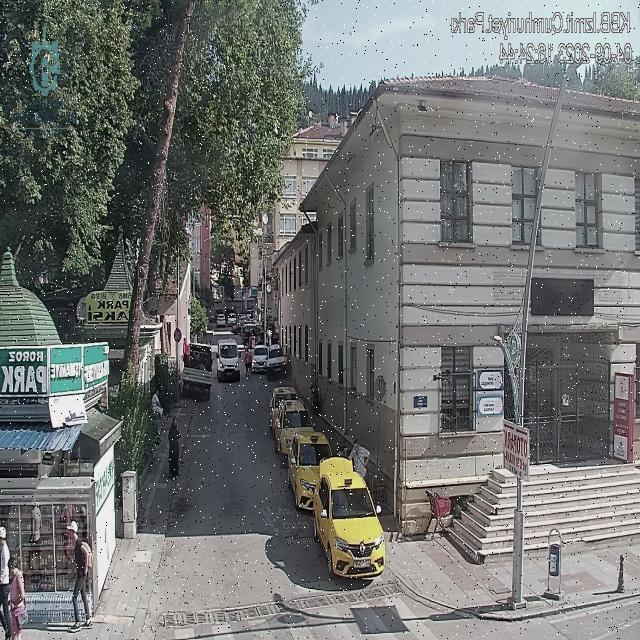Car: (317, 457, 388, 581), (289, 430, 340, 516), (280, 402, 318, 460), (269, 387, 297, 436), (265, 344, 289, 381), (250, 344, 271, 374), (216, 314, 226, 328)
Van: (181, 342, 215, 401), (214, 338, 242, 384)
